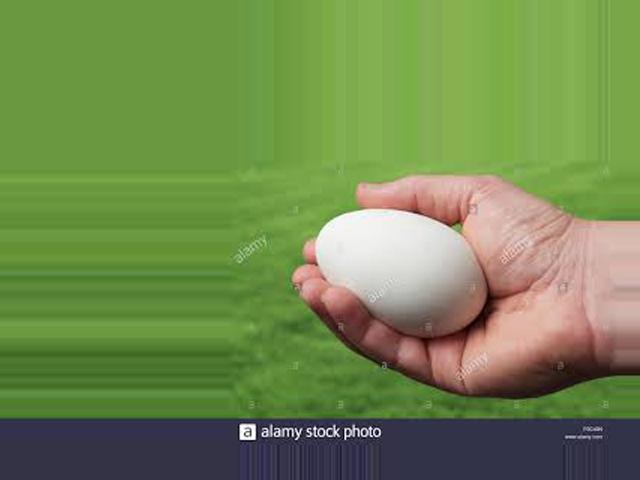egg: (316, 208, 490, 338)
